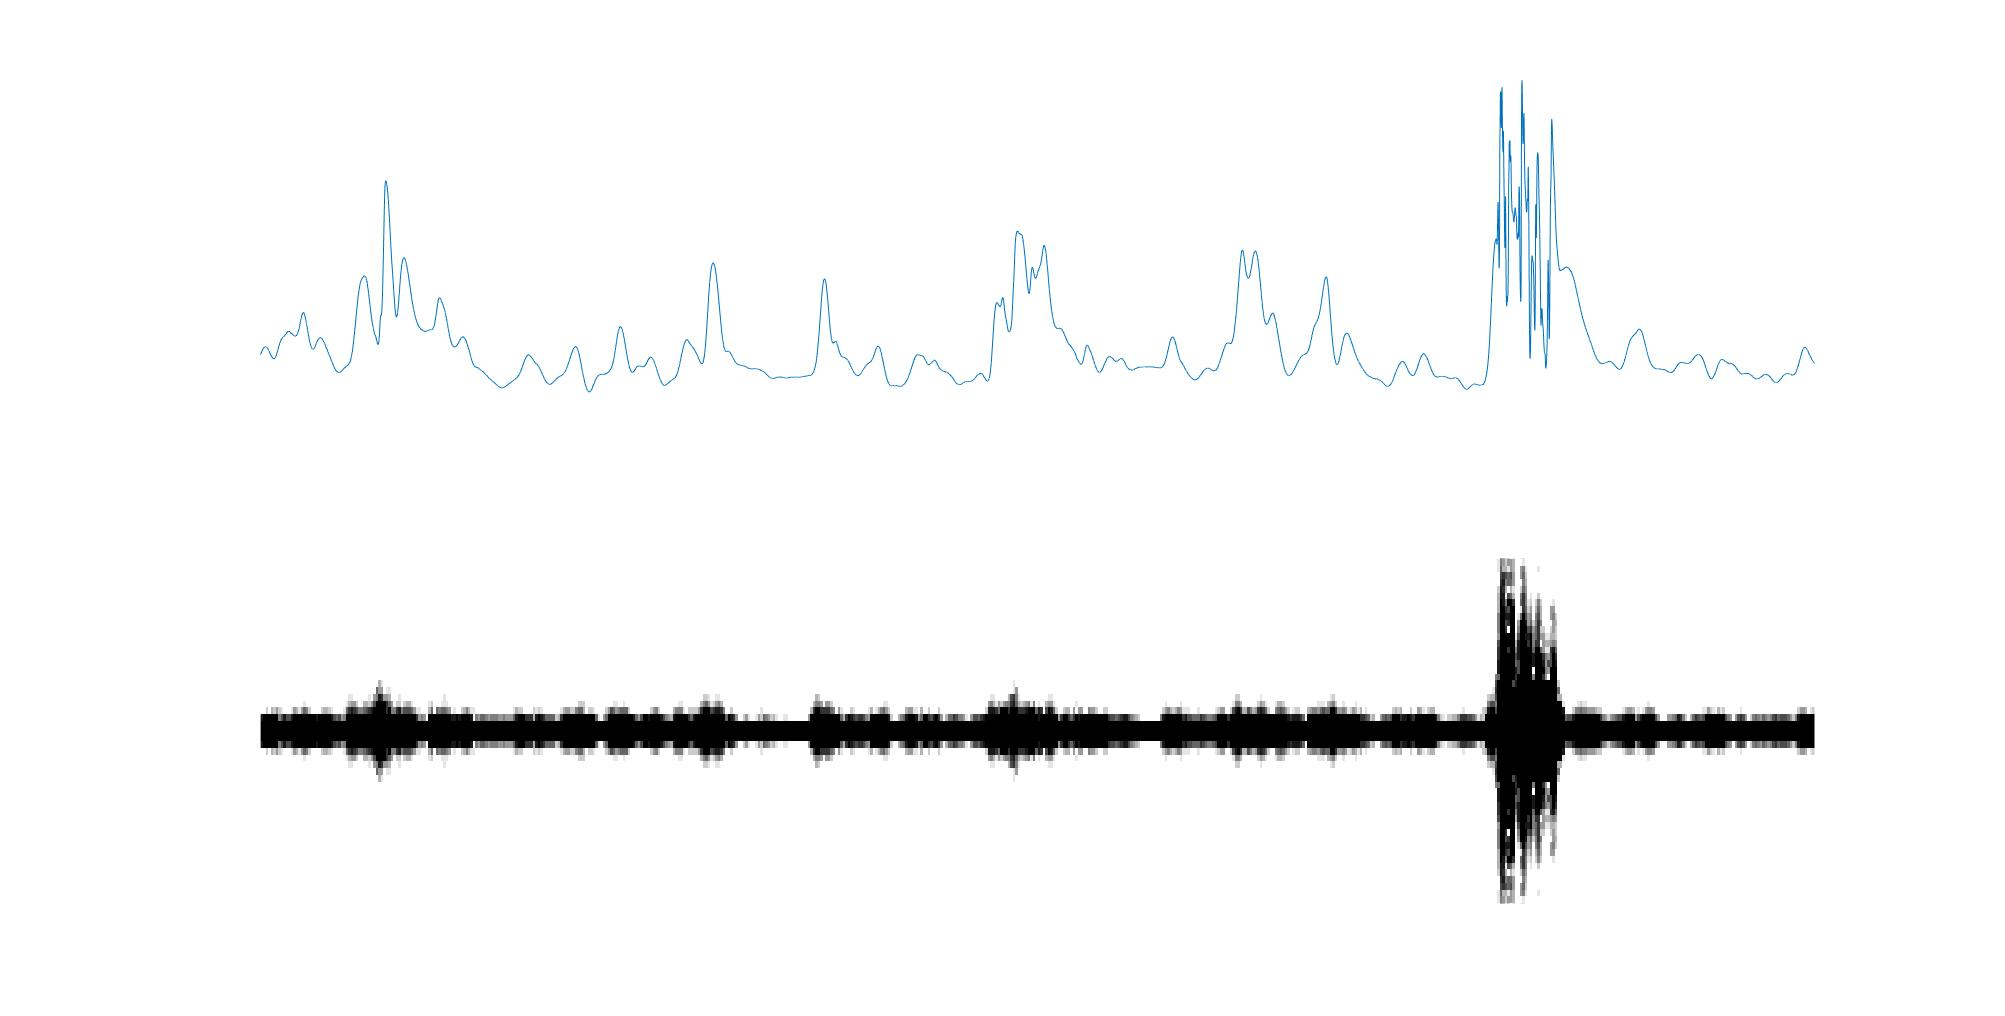spot: (1490, 555, 1569, 908)
